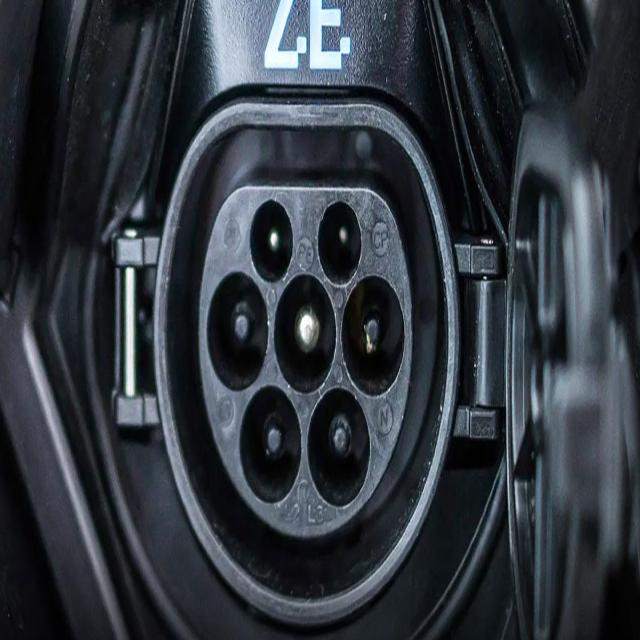Type 2: (168, 88, 446, 602)
